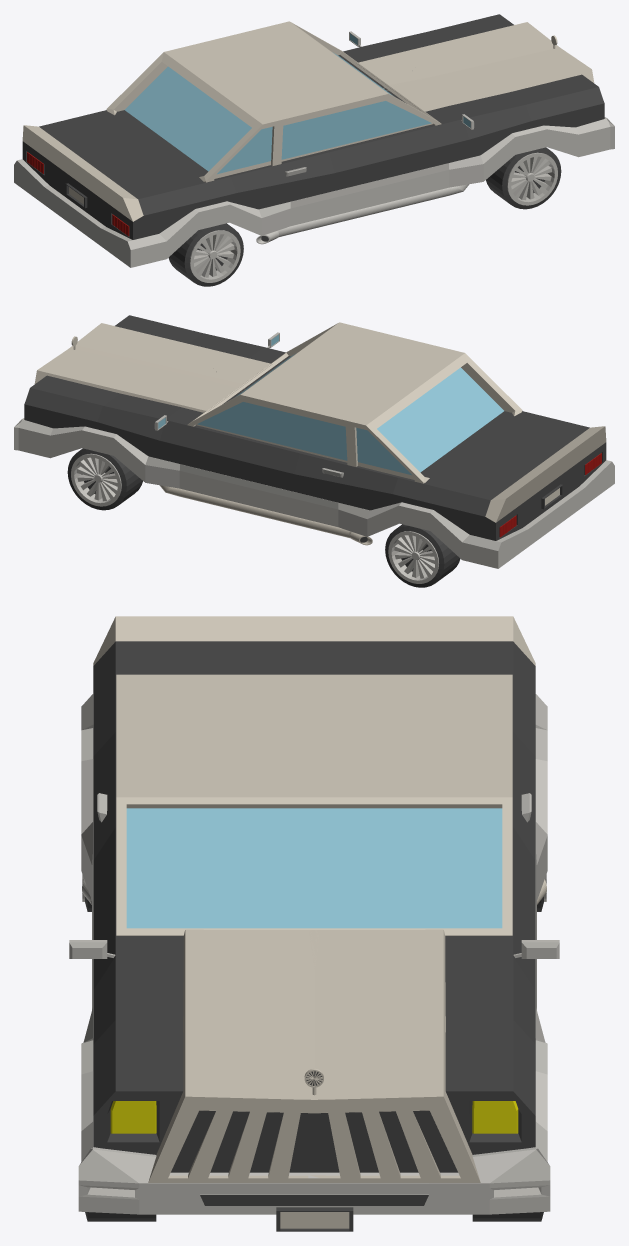
The model's file is car.fbx.
3 renders of one model, top to bottom at view 1: azimuth 30°, elevation 25°; view 2: azimuth 150°, elevation 25°; view 3: azimuth 270°, elevation 25°, orthographic. The views are drawn at different scales.
Parts seen in each view (by area): view 1: Car; view 2: Car; view 3: Car.
Boxes of the visible parts, <box> form: Car: <box>14,14,614,286</box>; Car: <box>14,315,614,587</box>; Car: <box>69,616,559,1231</box>.
Size of the model in its own units: 693 by 184 by 287.
